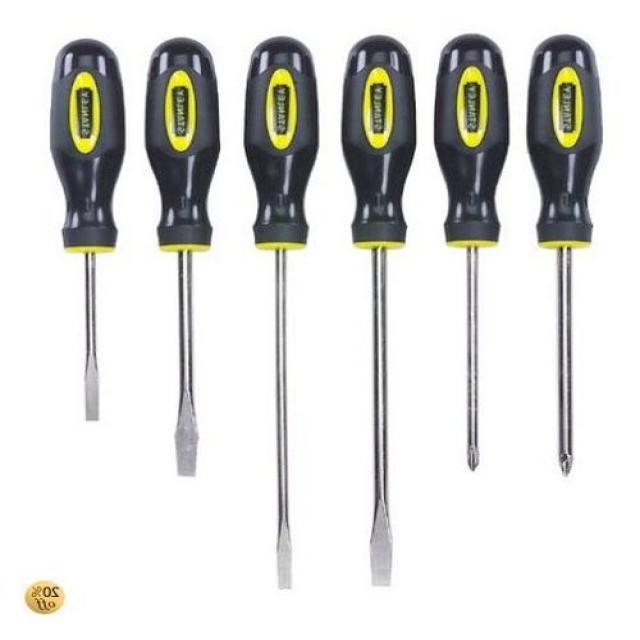screw driver: (229, 29, 345, 624), (334, 24, 441, 626), (422, 10, 525, 502), (131, 29, 228, 496), (35, 36, 144, 441), (519, 22, 607, 497)
